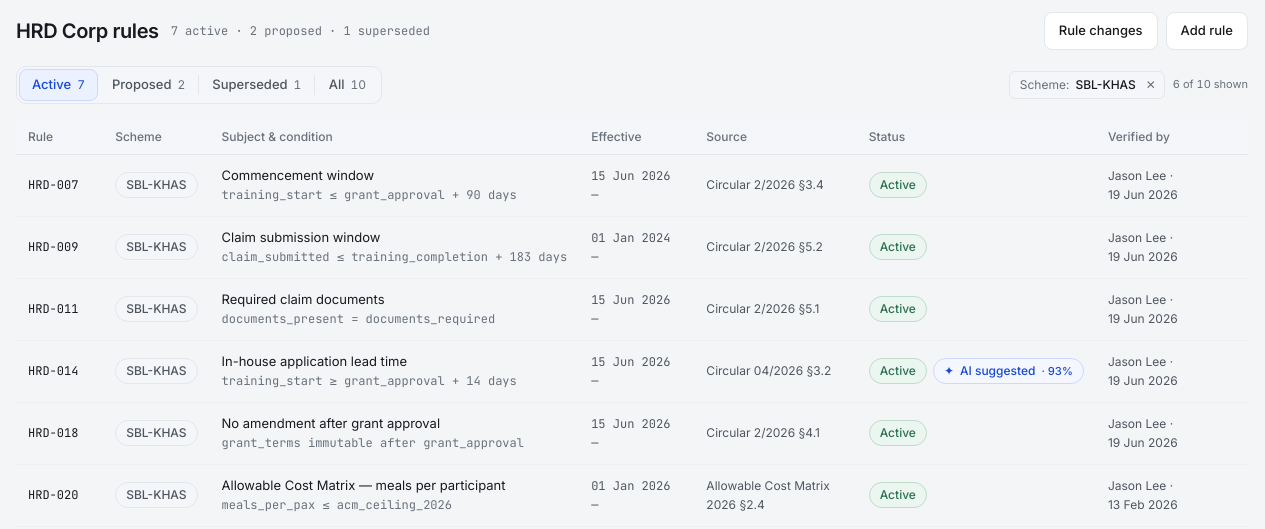
Test case: M12-S07 · rules registry › shows a proposed rule as awaiting verification
Expected: the heading "HRD Corp rules" is shown, x1=16 y1=16 x2=159 y2=46
Step 1. Click the tab "Proposed 2" → (149, 84), box x1=99 y1=68 x2=198 y2=100
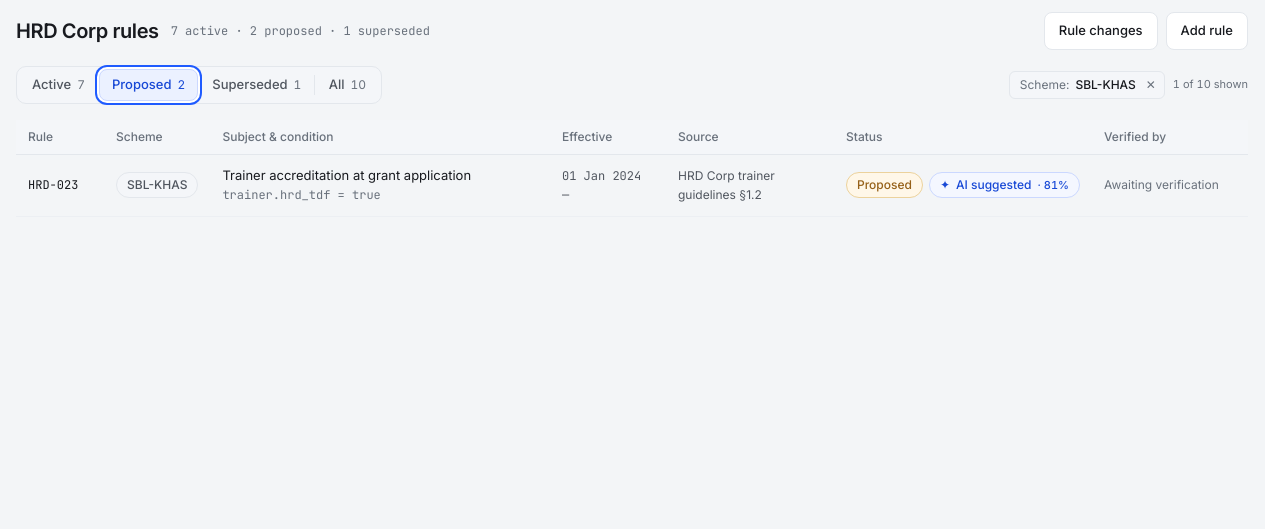
Result: the text "HRD-023" is shown at x1=28 y1=177 x2=78 y2=193
Result: the text "Awaiting verification" is shown at x1=1104 y1=177 x2=1219 y2=192
